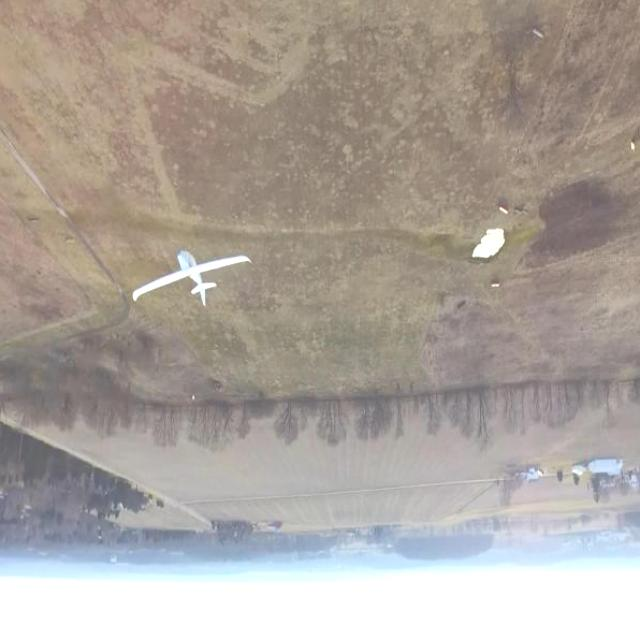plane: (132, 249, 254, 308)
